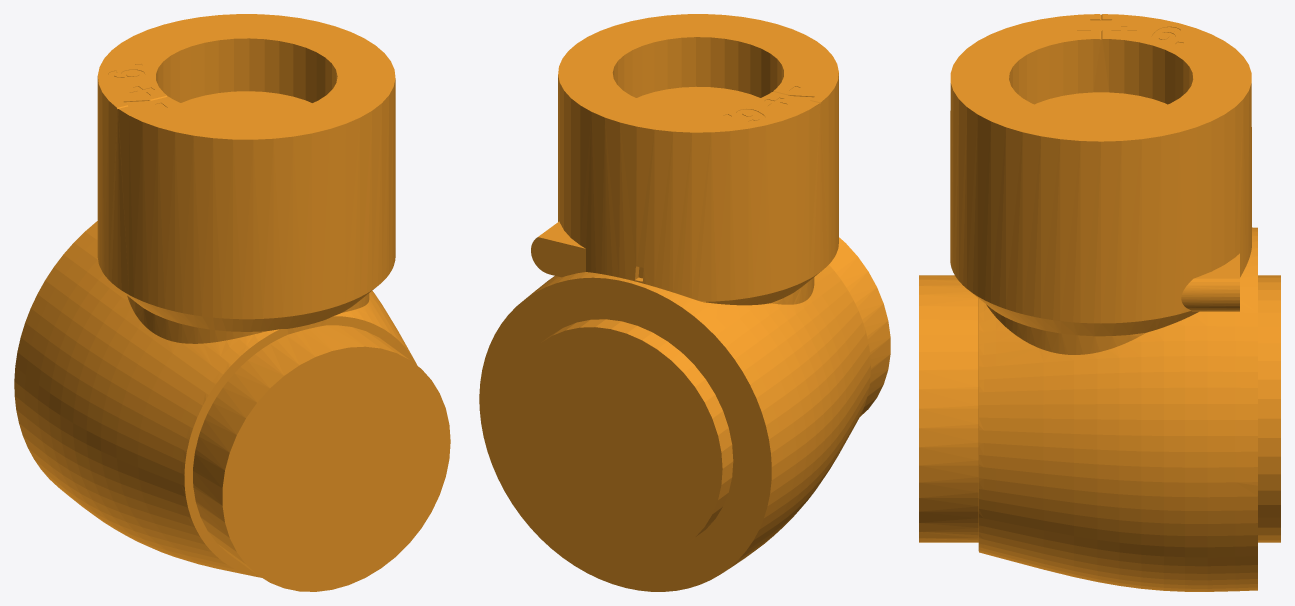
Rendered from KukaAgilusKRLink5.dae.
3 views of the same model, side by side, from view 1: azimuth 30°, elevation 25°; view 2: azimuth 150°, elevation 25°; view 3: azimuth 270°, elevation 25° (orthographic). The views are drawn at different scales.
Visible parts, largest first — view 1: KUKAKRLink5; view 2: KUKAKRLink5; view 3: KUKAKRLink5.
Boxes of the visible parts, x1,y1,x2,y2 form: KUKAKRLink5: [14, 14, 450, 591]; KUKAKRLink5: [479, 14, 890, 591]; KUKAKRLink5: [919, 14, 1280, 591].
Size of the model in its own units: 0.0794 by 0.0785 by 0.119.
